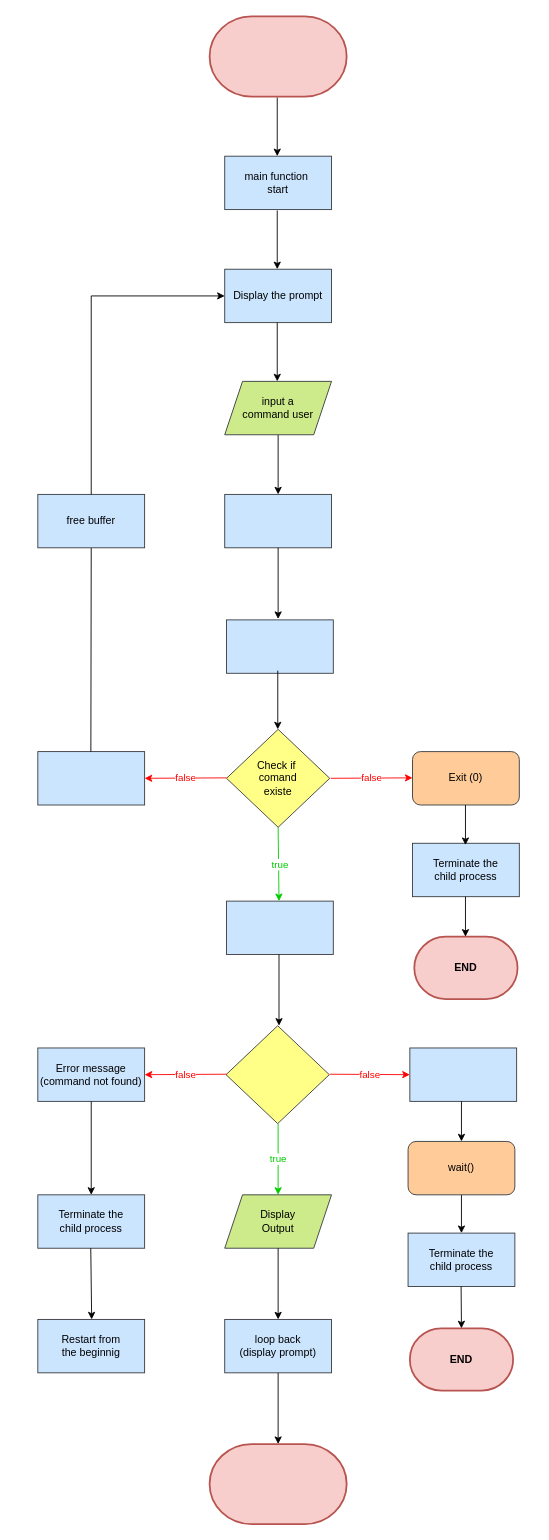
The diagram is 549 pixels wide and 1540 high, and some of its shapes have lost their labels. The shapes that lost their labels are listed below. From the top down, each one's centre as x and y in pixels, then its label:
At (277,56): "START SHELL".
At (278,521): "Read the command".
At (279,646): "split (tokenize) and parse it in a string array".
At (91,778): "Error message".
At (279,927): "Execute command".
At (277,1074): "is the command executed ?".
At (463,1074): "Parent process".
At (277,1484): "END PROGRAM".
